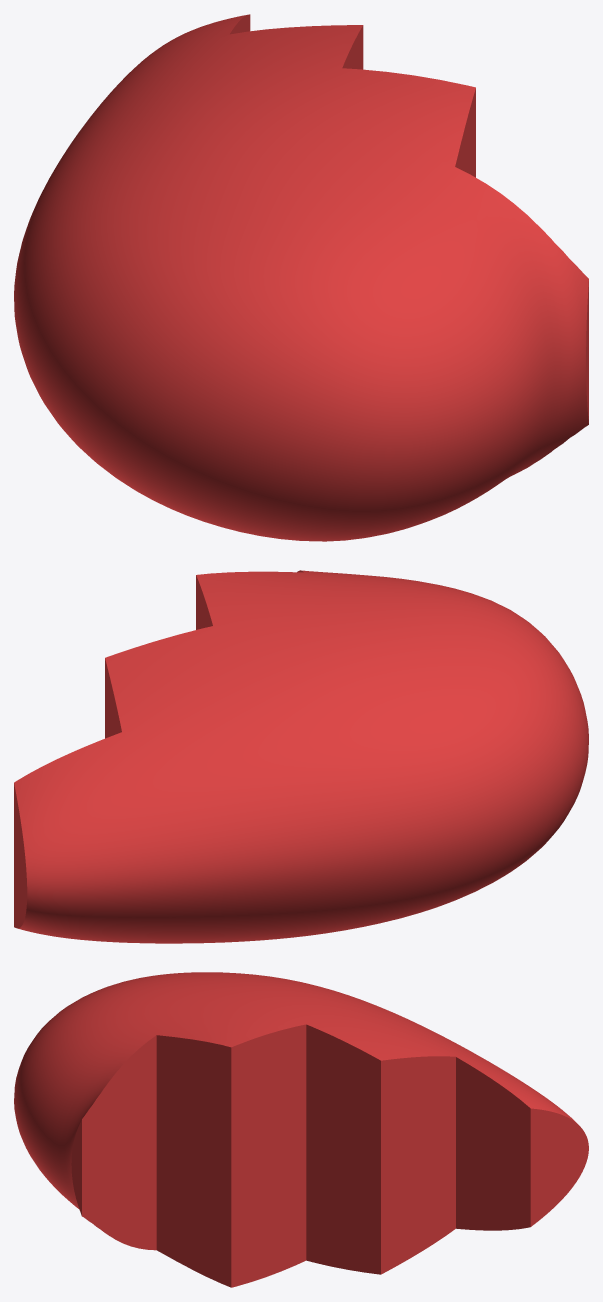
File: medioCorazon.fbx
3 renders of one model, top to bottom at view 1: azimuth 30°, elevation 25°; view 2: azimuth 150°, elevation 25°; view 3: azimuth 270°, elevation 25°, orthographic. The views are drawn at different scales.
Parts seen in each view (by area): view 1: 12190_Heart_v1_L3; view 2: 12190_Heart_v1_L3; view 3: 12190_Heart_v1_L3.
Boxes of the visible parts, x1,y1,x2,y2 form: 12190_Heart_v1_L3: (14,14,588,541); 12190_Heart_v1_L3: (14,570,588,943); 12190_Heart_v1_L3: (14,972,588,1287).
Bounding box in the file's own units: 1115 × 914 × 1964.
